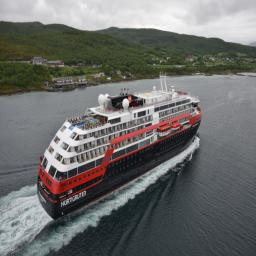cruises: (37, 73, 204, 224)
